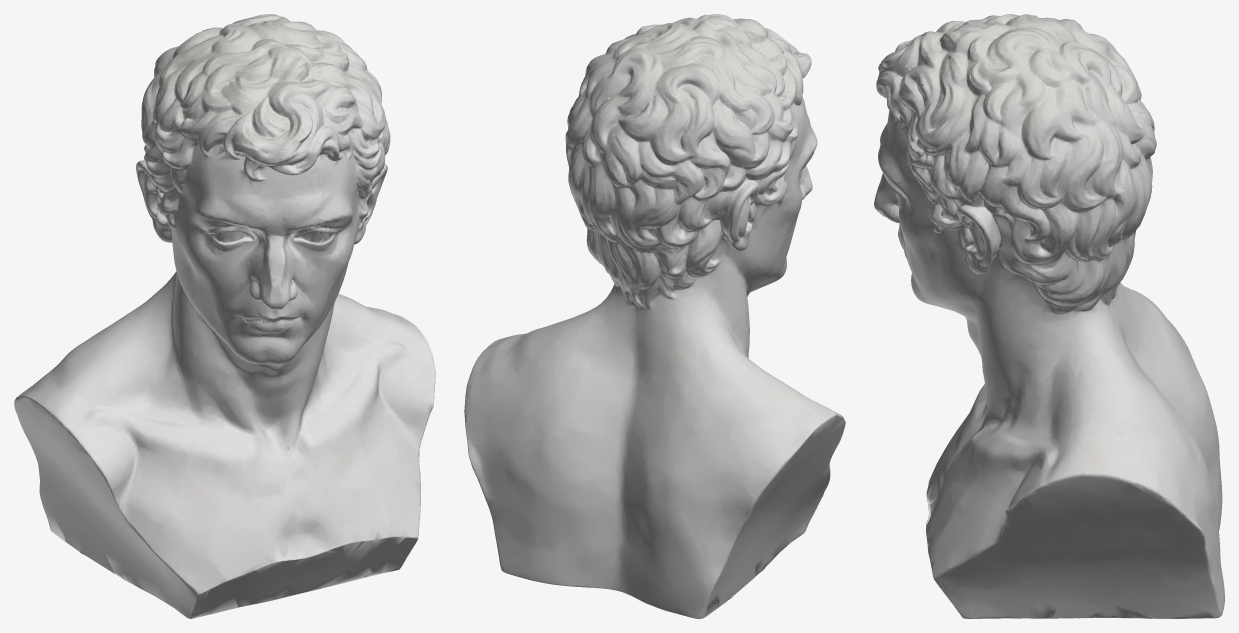
File: subject-0001.glb
The picture shows the model from 3 angles, left to right: view 1: azimuth 30°, elevation 25°; view 2: azimuth 150°, elevation 25°; view 3: azimuth 270°, elevation 25°; orthographic projection. The views are drawn at different scales.
Parts seen in each view (by area): view 1: Mesh_0; view 2: Mesh_0; view 3: Mesh_0.
Part boxes in pixels (x1,y1,x2,y2): Mesh_0: (14,14,435,618); Mesh_0: (464,14,845,618); Mesh_0: (874,14,1224,618).
Size of the model in its own units: 0.3543 by 0.5 by 0.2937.
Materials: 1 (1 with a texture image).
